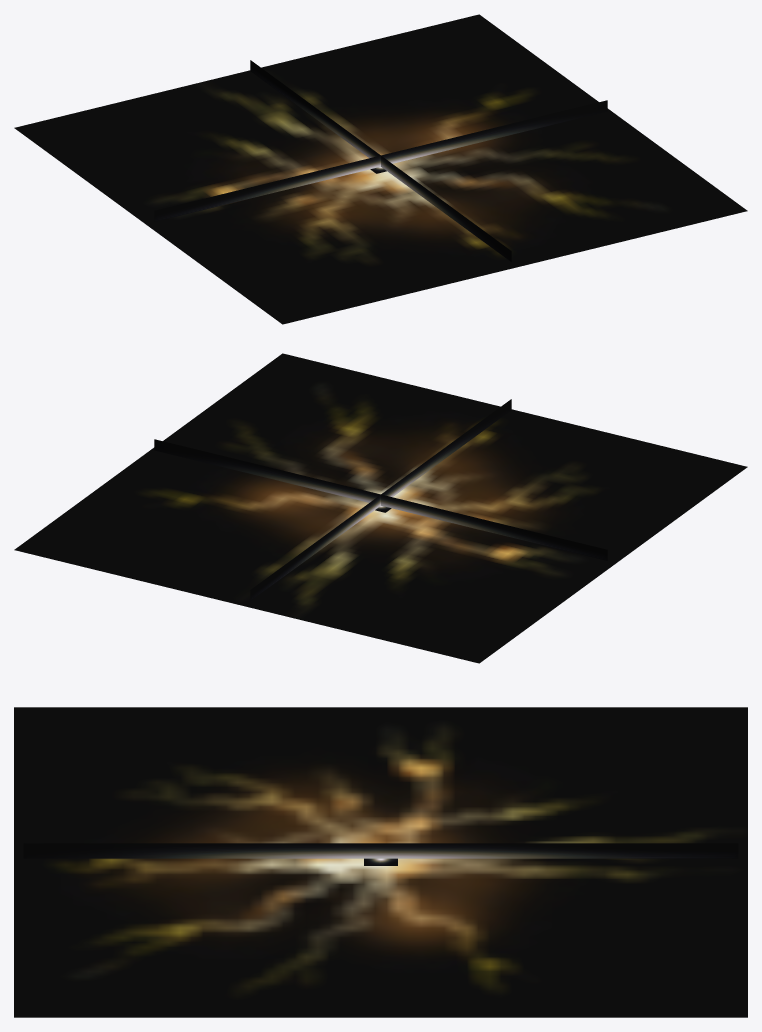
The model's file is xuliflow.FBX.
3 views of the same model, one above another, from view 1: azimuth 30°, elevation 25°; view 2: azimuth 150°, elevation 25°; view 3: azimuth 270°, elevation 25° (orthographic). The views are drawn at different scales.
Parts seen in each view (by area): view 1: 1_1, 1_3_1; view 2: 1_1, 1_3_1; view 3: 1_1, 1_3_1.
Part boxes in pixels (x1,y1,x2,y2): 1_1: (14,14,747,324); 1_3_1: (154,60,607,261); 1_1: (14,353,747,663); 1_3_1: (154,399,607,600); 1_1: (14,707,747,1017); 1_3_1: (23,843,738,858).
Size of the model in its own units: 6.03 by 0.1734 by 6.03.
Materials: 1 (1 with a texture image).
